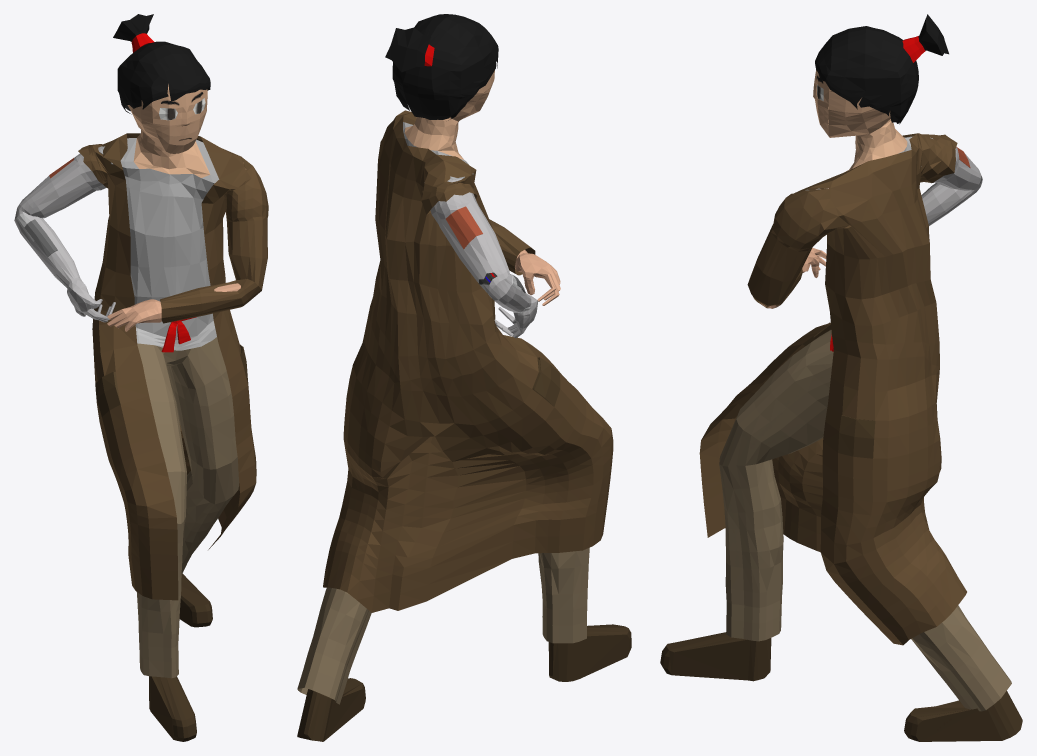
The model's file is One_Bash_000005.obj.
3 renders of one model, left to right at view 1: azimuth 30°, elevation 25°; view 2: azimuth 150°, elevation 25°; view 3: azimuth 270°, elevation 25°, orthographic. The views are drawn at different scales.
Parts seen in each view (by area): view 1: Hair_Cube.004; view 2: Hair_Cube.004; view 3: Hair_Cube.004.
Boxes of the visible parts, x1,y1,x2,y2 form: Hair_Cube.004: (14,14,268,741); Hair_Cube.004: (297,14,631,741); Hair_Cube.004: (660,14,1022,741).
Bounding box in the file's own units: 1.18 × 3.73 × 1.78.
